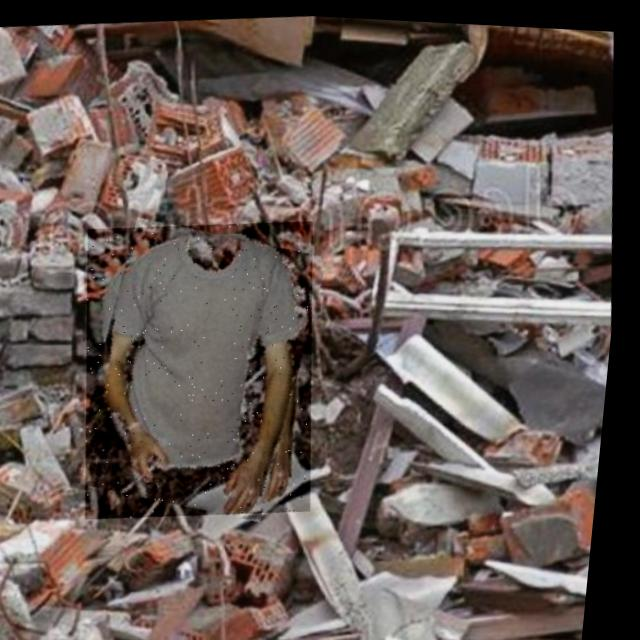Person in Rubble: (70, 208, 342, 526)
